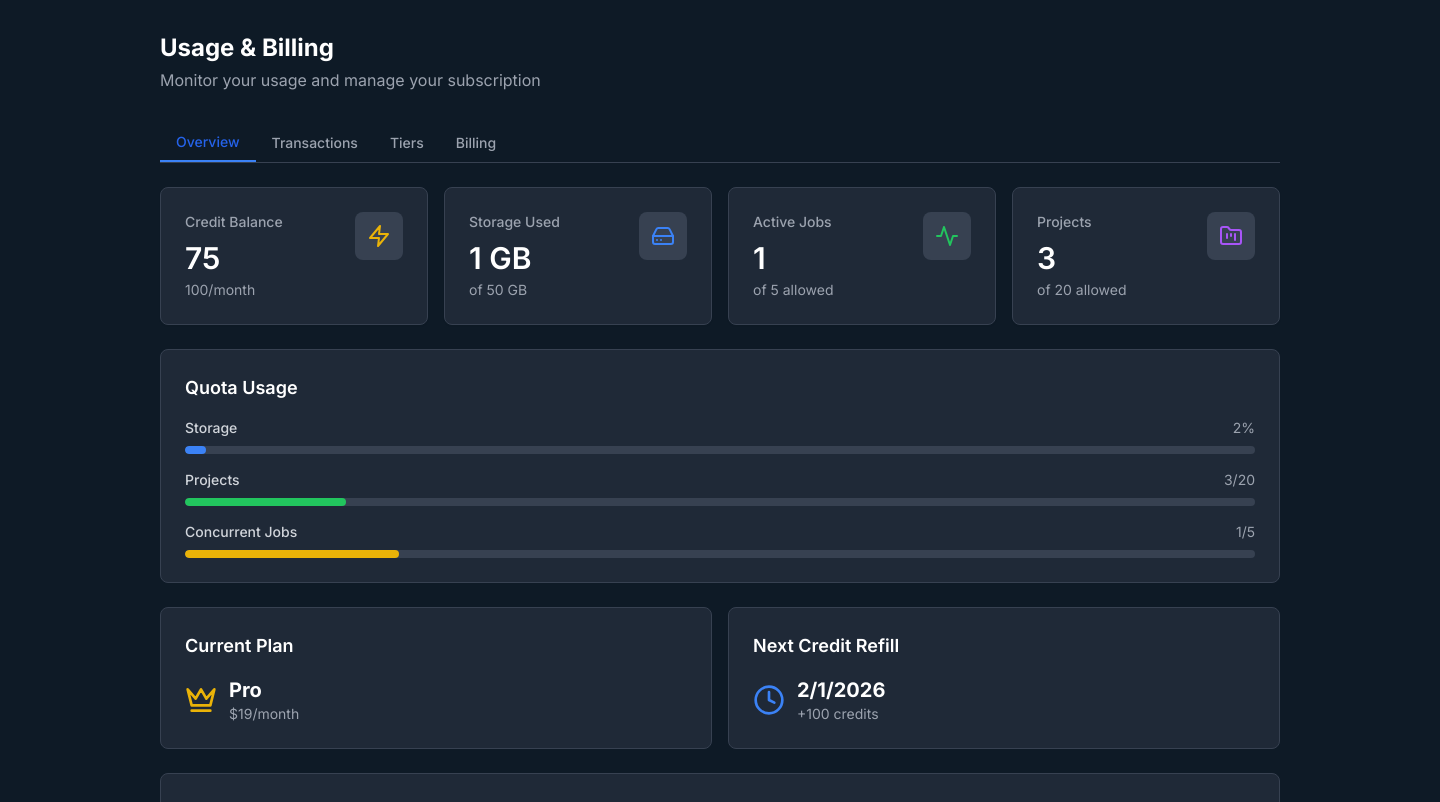
Test: UsageBillingPage › Tabs Navigation › switches to tiers tab
Expected: the button "Overview" is shown, [160,124,256,162]
Click the button "Tiers": (407, 143) [374,124,440,162]
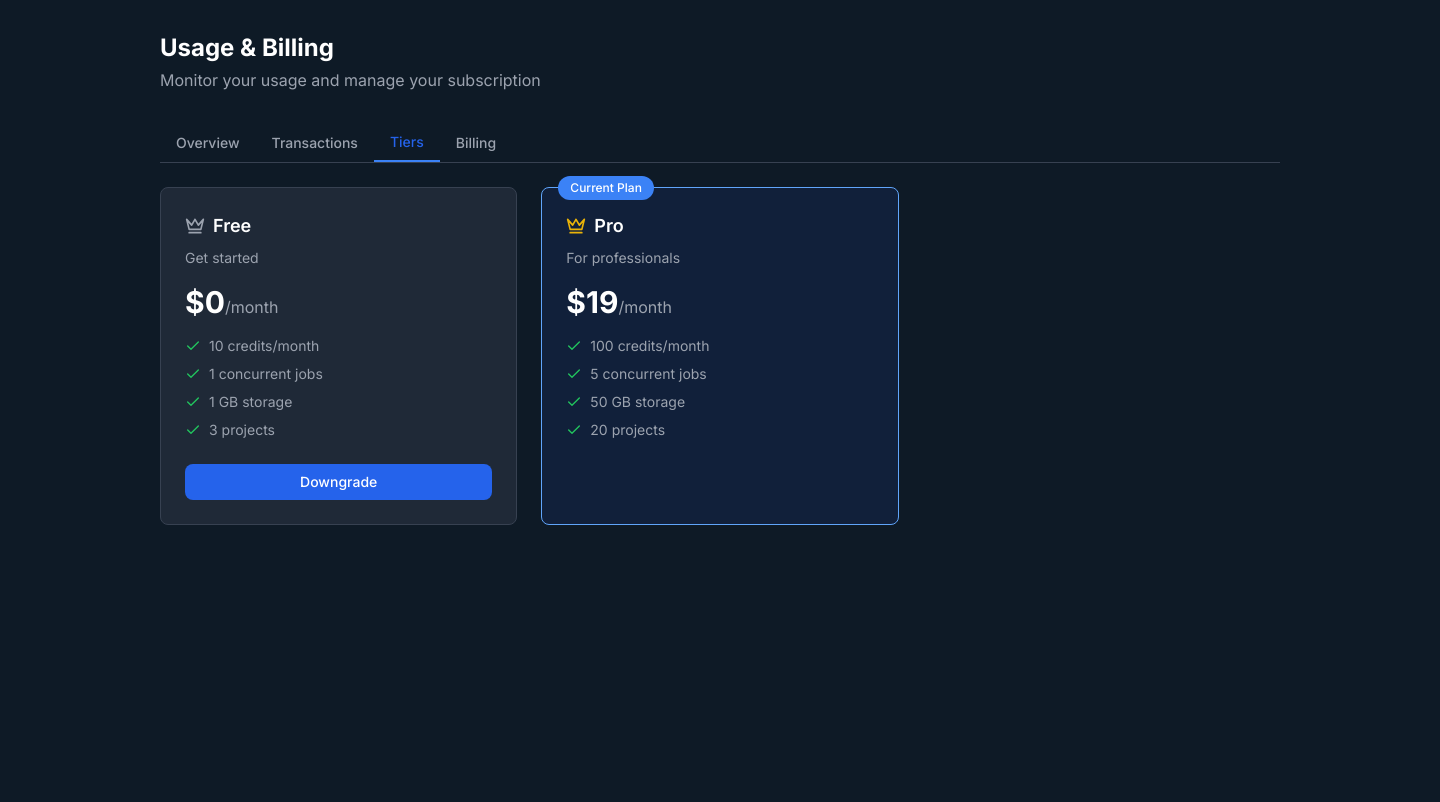
Expected: the heading "Free" is shown, [213,212,251,240]
Expected: the heading "Pro" is shown, [594,212,624,240]
